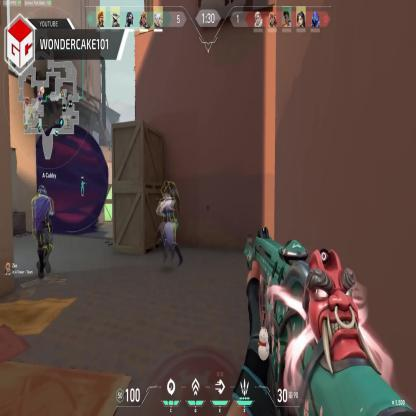enemy: (158, 182, 182, 268), (32, 183, 52, 280)
enemy_head: (163, 184, 171, 198), (38, 185, 46, 197)
